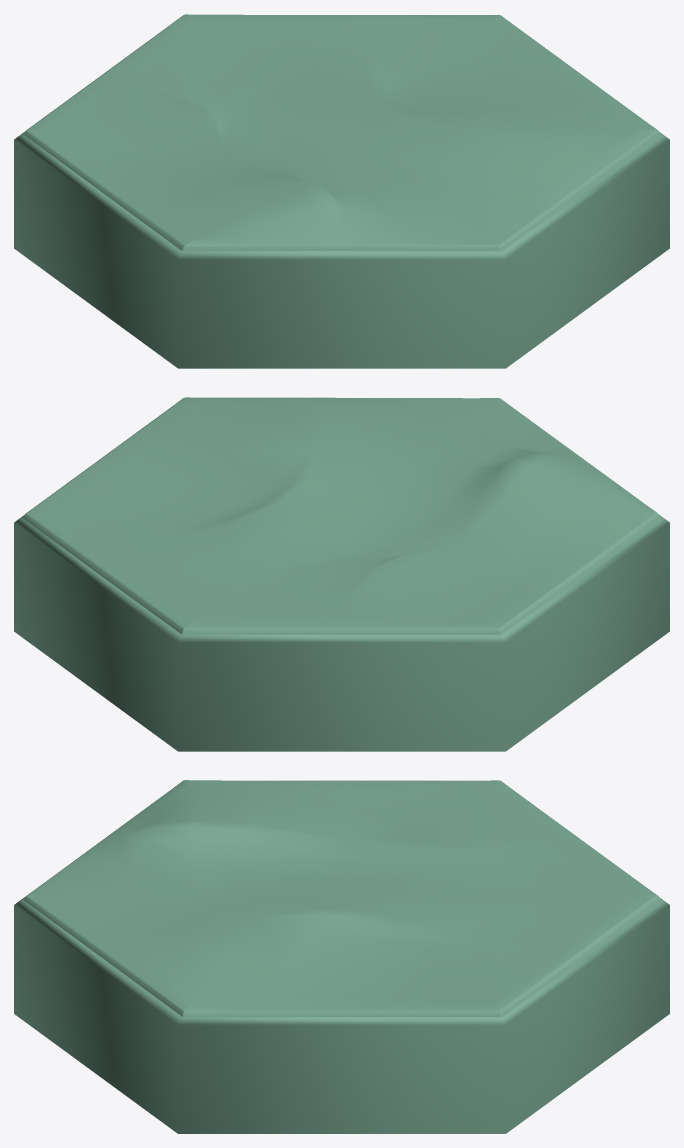
The model's file is 5_water.fbx.
3 views of the same model, one above another, from view 1: azimuth 30°, elevation 25°; view 2: azimuth 150°, elevation 25°; view 3: azimuth 270°, elevation 25° (orthographic).
Visible parts, largest first — view 1: pCylinder8, pCylinder11; view 2: pCylinder8, pCylinder11; view 3: pCylinder8, pCylinder11.
Part boxes in pixels (box(x1,y1,x2,y2)): pCylinder8: box(23, 14, 661, 250); pCylinder11: box(14, 132, 669, 368); pCylinder8: box(22, 397, 660, 634); pCylinder11: box(14, 515, 669, 751); pCylinder8: box(23, 780, 661, 1017); pCylinder11: box(14, 897, 669, 1133).
Bounding box in the file's own units: 4.05 × 1.11 × 4.68.
